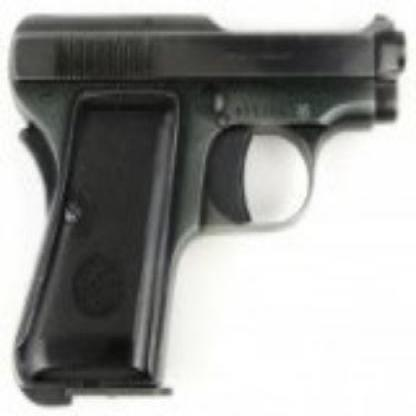pistol: (8, 3, 400, 408)
